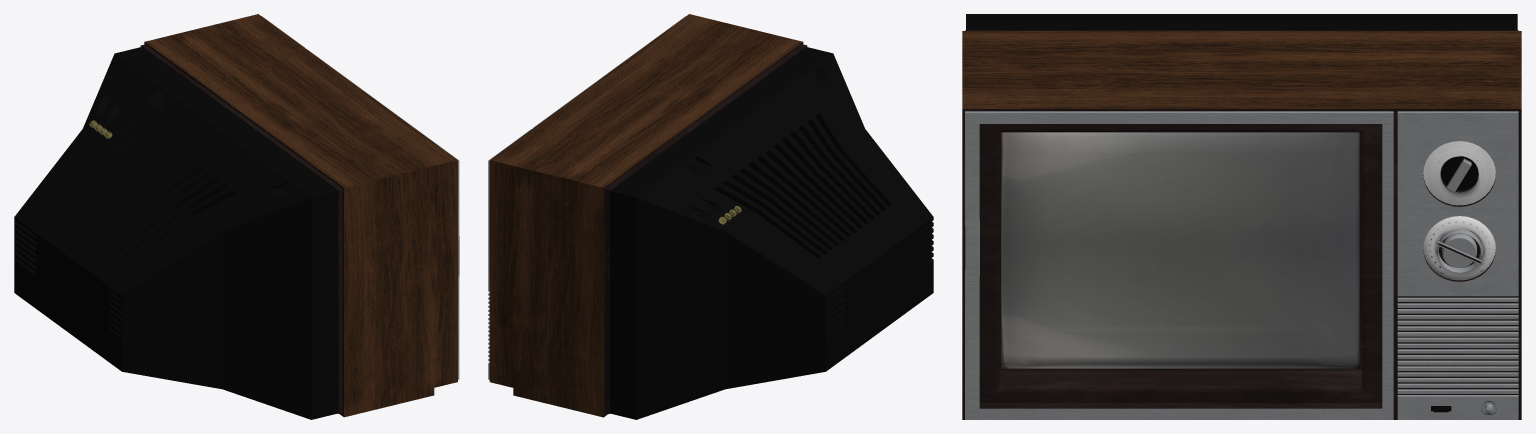
Rendered from vintage-television.glb.
3 renders of one model, left to right at view 1: azimuth 30°, elevation 25°; view 2: azimuth 150°, elevation 25°; view 3: azimuth 270°, elevation 25°, orthographic. The views are drawn at different scales.
Parts seen in each view (by area): view 1: Cube.014, Cube.003, Cube.002, Cube.004; view 2: Cube.014, Cube.003, Cube.002, Cube.004; view 3: Cube.005, Cube.004, Cube.003, Cube.002, Cube.014, Cube.008, Cube.012.
Part boxes in pixels (<box>): Cube.014: <box>14,47,337,419</box>; Cube.003: <box>145,14,458,417</box>; Cube.002: <box>140,42,343,416</box>; Cube.004: <box>261,16,459,379</box>; Cube.014: <box>610,47,933,419</box>; Cube.003: <box>489,14,802,417</box>; Cube.002: <box>603,42,807,416</box>; Cube.004: <box>488,16,685,379</box>; Cube.005: <box>1001,132,1359,368</box>; Cube.004: <box>965,111,1518,419</box>; Cube.003: <box>962,31,1521,291</box>; Cube.002: <box>962,30,1521,419</box>; Cube.014: <box>966,14,1517,190</box>; Cube.008: <box>1423,141,1495,280</box>; Cube.012: <box>1435,228,1483,273</box>.
Size of the model in its own units: 2.68 by 1.96 by 3.09.
Materials: 9 (6 with a texture image).
